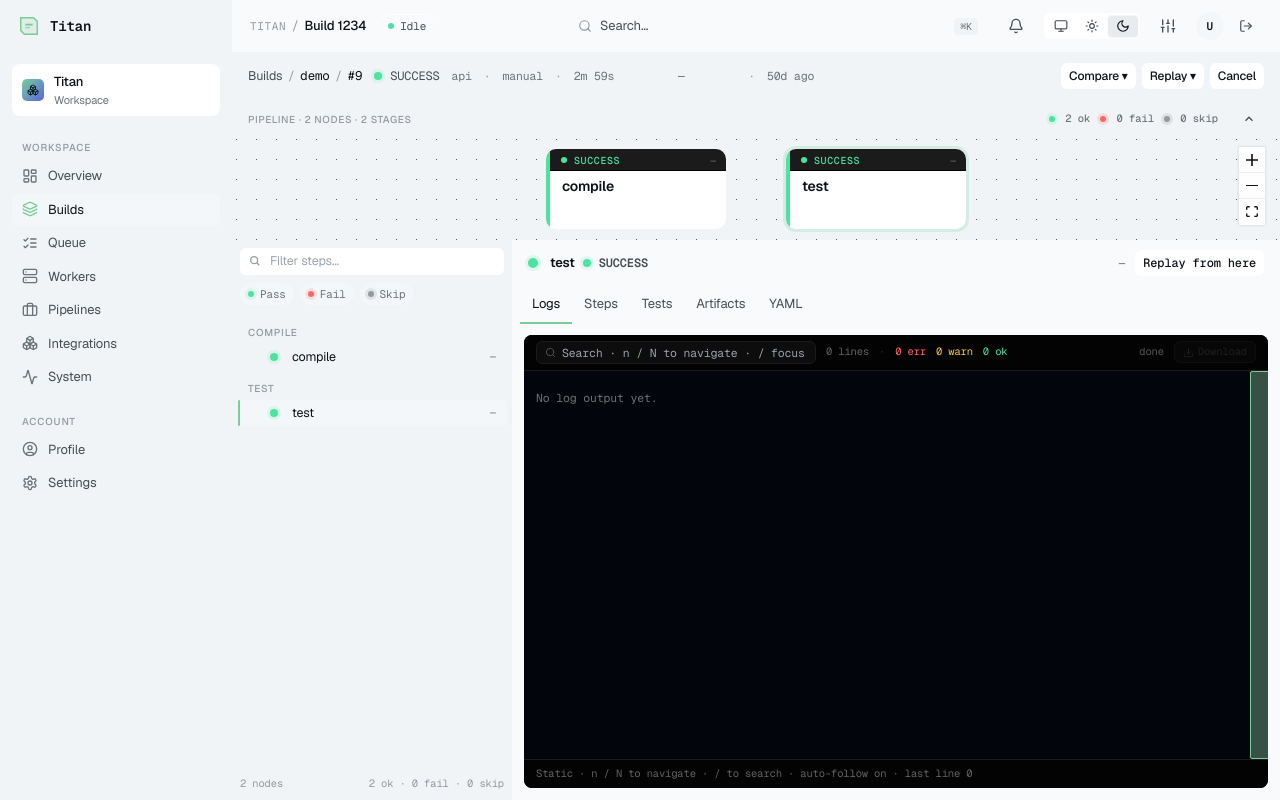
Test: /builds/$id — header Replay split-button (closes #618) › with a selection, "from selected step" becomes enabled
expect the button "Replay from here" is shown: met, box [1135,250,1264,276]
Click the button with test id "replay-menu-trigger" at (1173, 76), box [1142,63,1204,89]
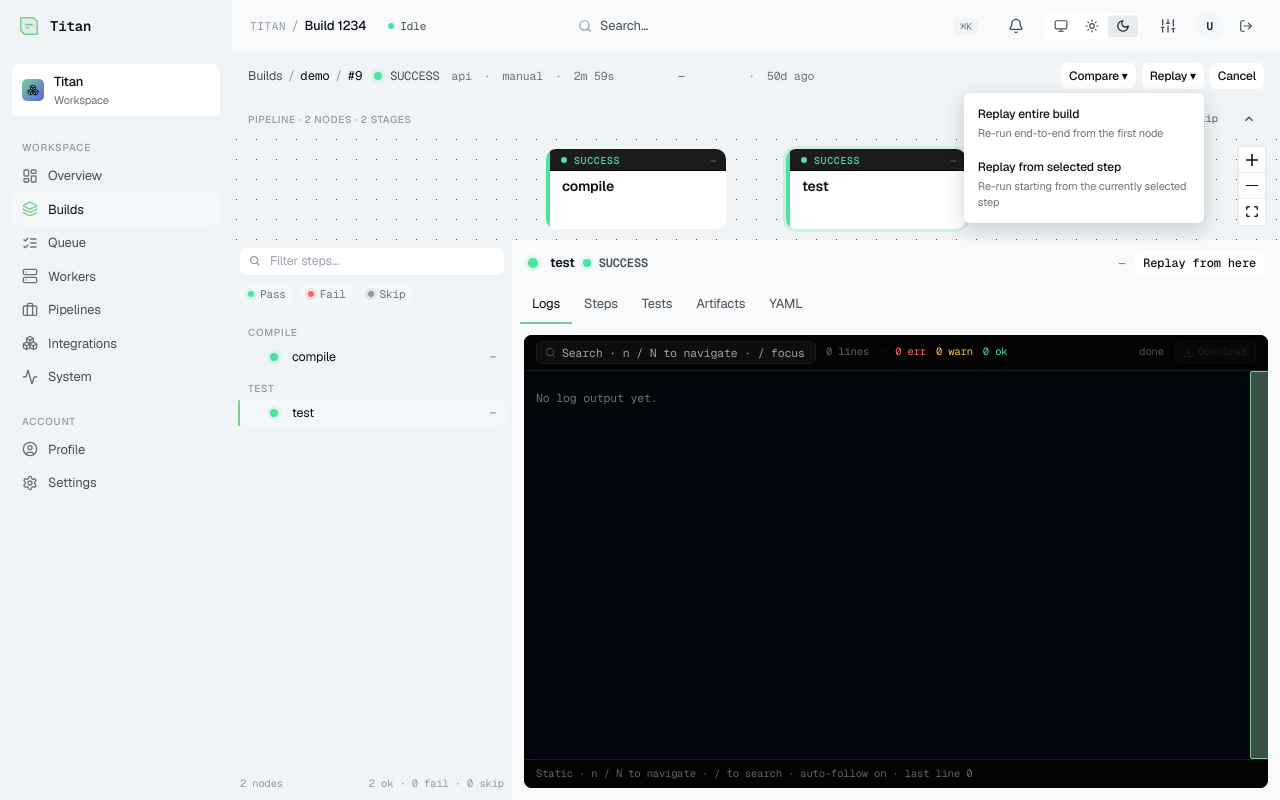
expect the menu item with test id "replay-menu-from-selected" is enabled: met, box [968,150,1200,218]
